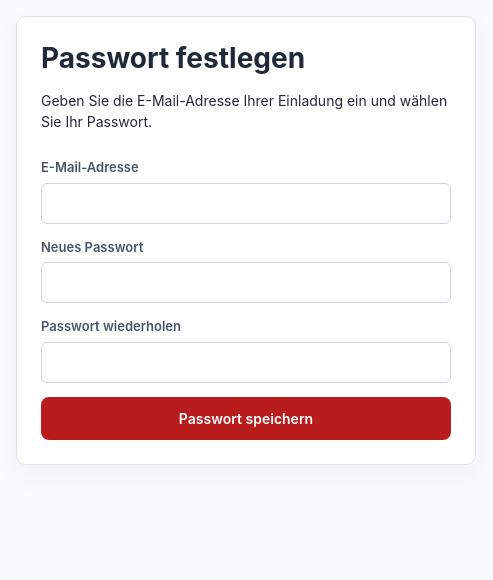
Test case: ChangePassword invitation › rejects a weak password locally
The image size is (493, 580).
Type "user@example.com" into the field labelled "E-Mail-Adresse" at (246, 203), box [41, 182, 451, 224]
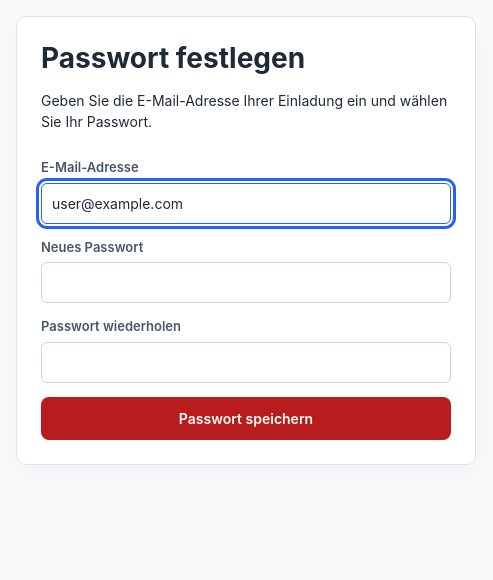
Type "weak" into the password field labelled "Neues Passwort" at (246, 282), box [41, 262, 451, 303]
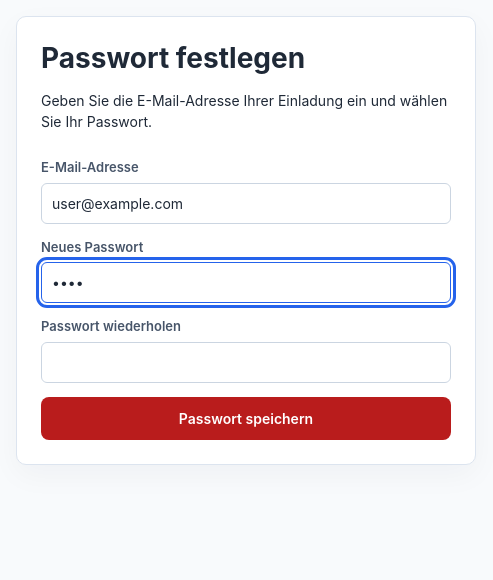
Type "weak" into the password field labelled "Passwort wiederholen" at (246, 362), box [41, 342, 451, 382]
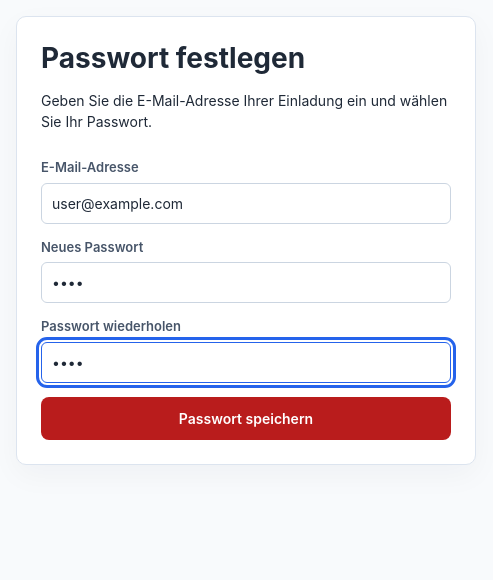
Click the button "Passwort speichern" at (246, 418), box [41, 396, 451, 440]
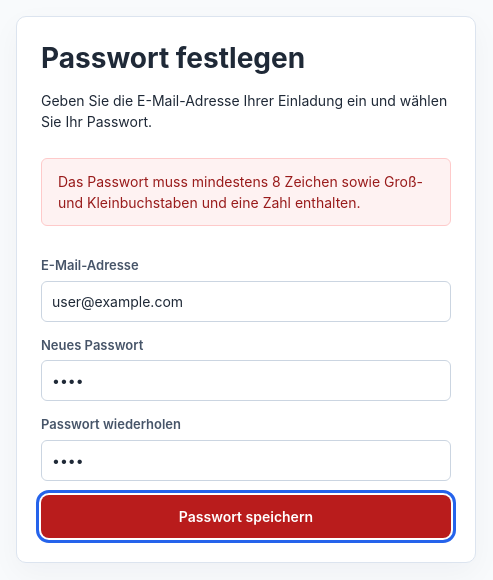
expect the message shows "mindestens 8 Zeichen": met, box [58, 173, 423, 211]
